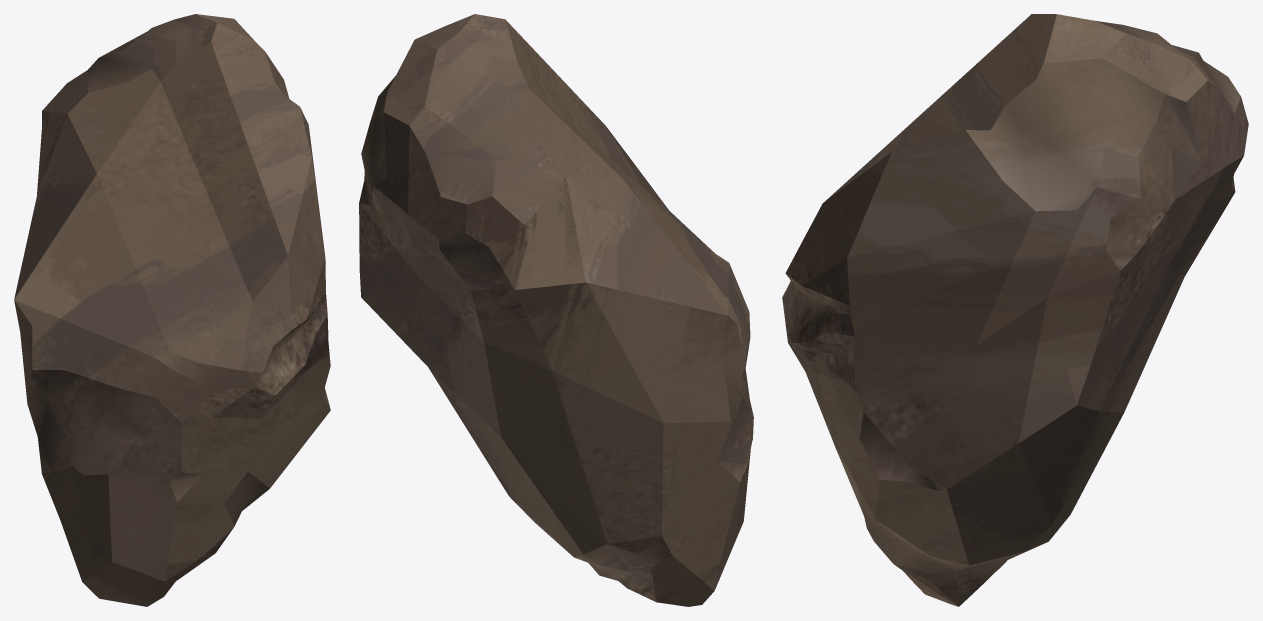
File: P_ROCK 2.fbx
The picture shows the model from 3 angles, left to right: view 1: azimuth 30°, elevation 25°; view 2: azimuth 150°, elevation 25°; view 3: azimuth 270°, elevation 25°; orthographic projection. The views are drawn at different scales.
Visible parts, largest first — view 1: Rock_02; view 2: Rock_02; view 3: Rock_02.
Boxes of the visible parts, x1=… form: Rock_02: x1=14, y1=14, x2=330, y2=606; Rock_02: x1=359, y1=14, x2=753, y2=606; Rock_02: x1=782, y1=14, x2=1248, y2=606.
Bounding box in the file's own units: 72.11 × 116 × 75.72.
